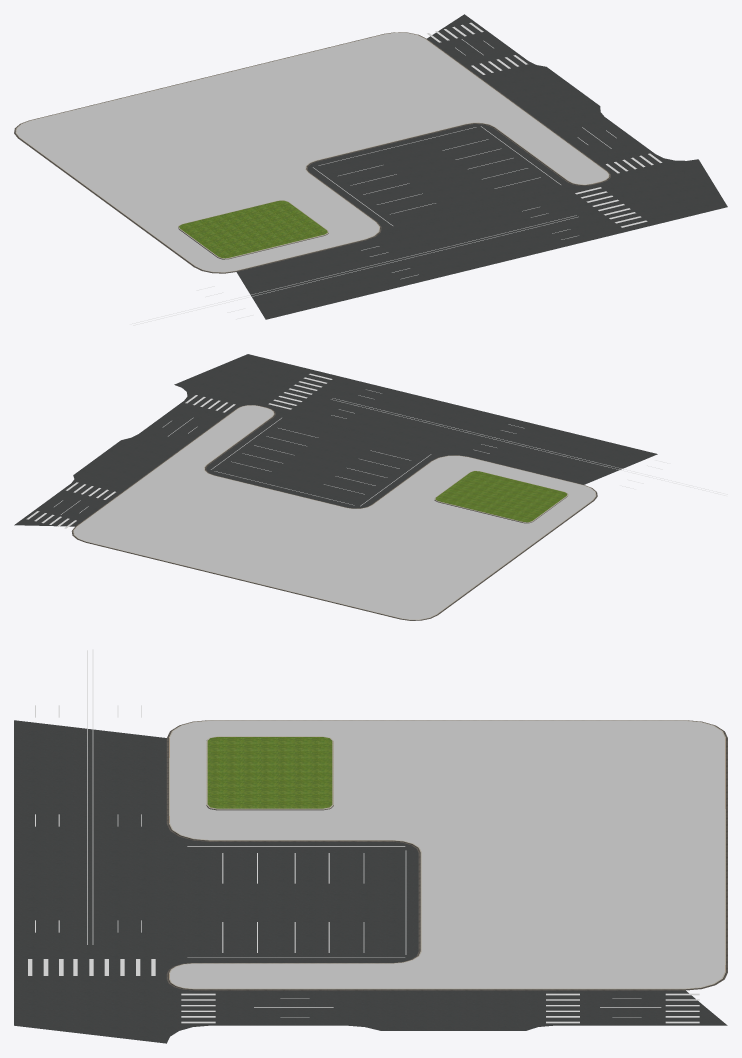
The model's file is New_Terrain_Area_24.fbx.
3 renders of one model, top to bottom at view 1: azimuth 30°, elevation 25°; view 2: azimuth 150°, elevation 25°; view 3: azimuth 270°, elevation 25°, orthographic. The views are drawn at different scales.
Visible parts, largest first — view 1: Area_24, Road_17, Road_Alpha_54, Road_Alpha_51; view 2: Area_24, Road_17, Road_Alpha_54, Road_Alpha_51; view 3: Area_24, Road_17, Road_Alpha_51, Road_Alpha_54, Road_Alpha_52.
Boxes of the visible parts, <box> form: Area_24: <box>14,32,610,273</box>; Road_17: <box>236,14,727,319</box>; Road_Alpha_54: <box>130,187,647,325</box>; Road_Alpha_51: <box>313,22,560,225</box>; Area_24: <box>71,405,597,620</box>; Road_17: <box>14,354,657,526</box>; Road_Alpha_54: <box>268,373,727,495</box>; Road_Alpha_51: <box>26,418,431,528</box>; Area_24: <box>166,720,727,990</box>; Road_17: <box>14,720,727,1043</box>; Road_Alpha_51: <box>187,846,699,1023</box>; Road_Alpha_54: <box>28,649,155,975</box>; Road_Alpha_52: <box>181,993,333,1023</box>.
Size of the model in its own units: 11125 by 21.84 by 8518.
